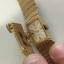watch: (23, 15, 54, 47)
